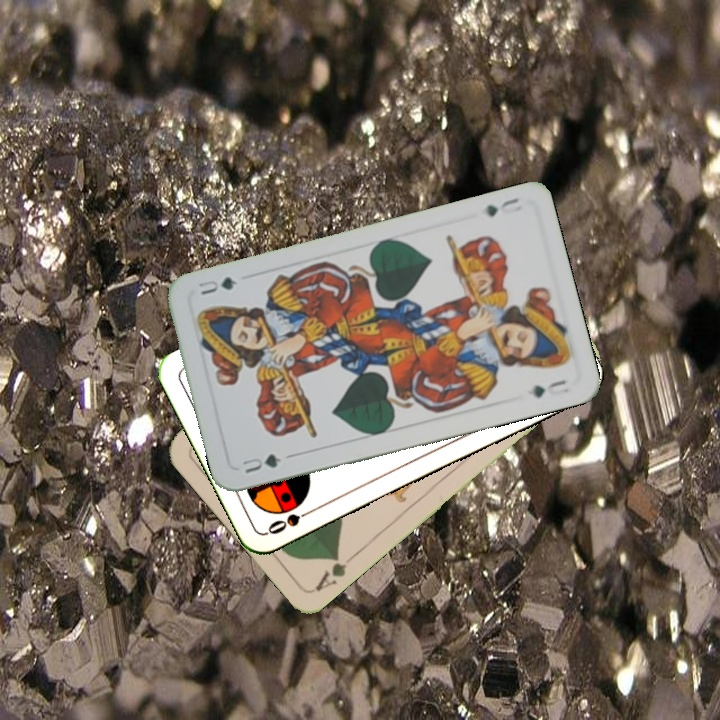GA: (311, 549, 359, 594)
GU: (237, 449, 284, 476), (480, 194, 524, 219)
SO: (263, 503, 319, 537)
